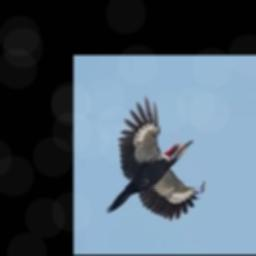Woodpecker: (106, 95, 205, 219)
